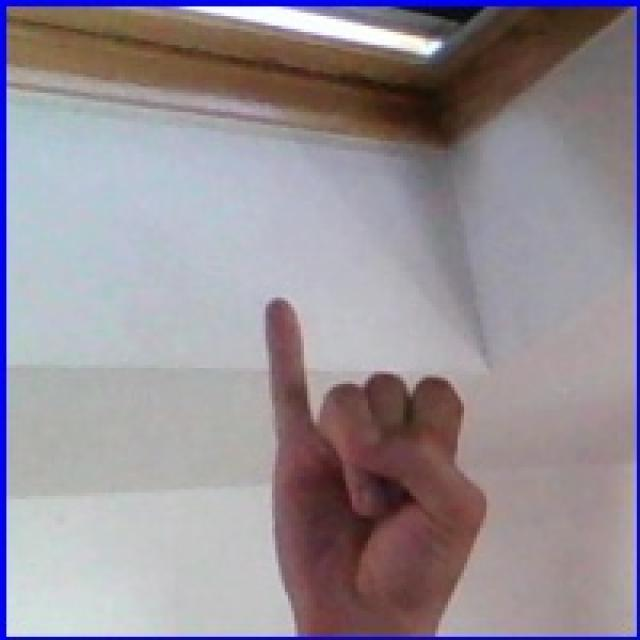Letra I: (224, 261, 507, 622)
